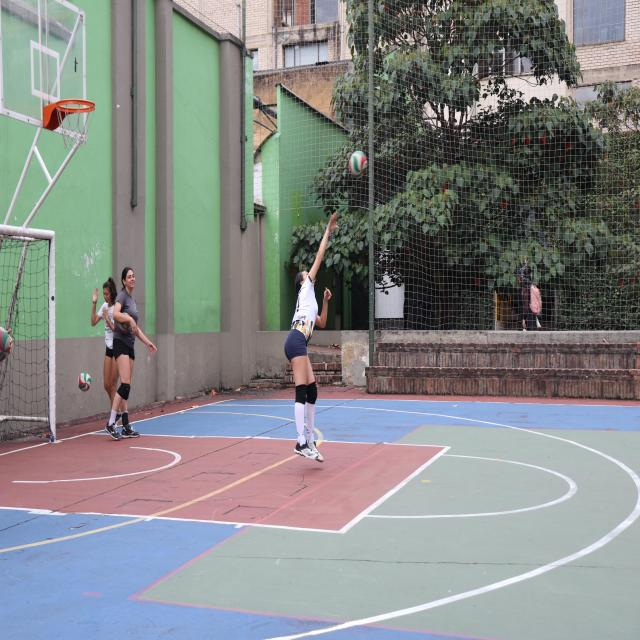volleyball: (350, 150, 368, 178), (0, 326, 11, 362), (77, 372, 91, 392)
